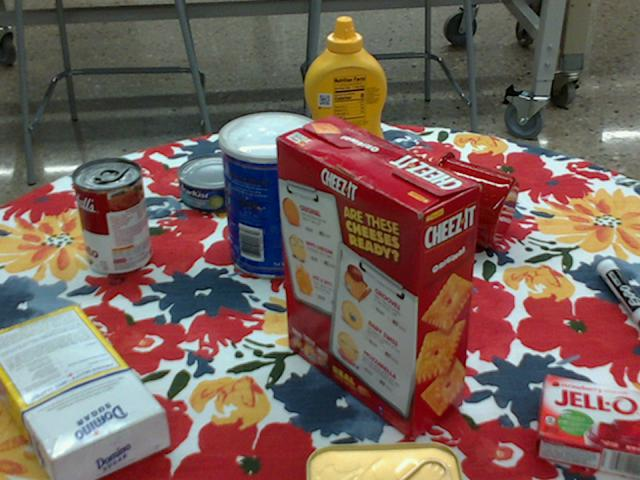cracker_box: (274, 118, 478, 442)
gelatin_box: (533, 374, 639, 475)
large_marker: (596, 257, 639, 326)
master_chef_can: (218, 111, 324, 278)
mug: (419, 151, 516, 247)
mustard_bottle: (303, 17, 386, 182)
potted_meat_can: (304, 442, 462, 479)
sugar_box: (0, 308, 169, 479)
tomato_soup_can: (73, 158, 150, 275)
tuna_fish_can: (178, 153, 253, 211)
